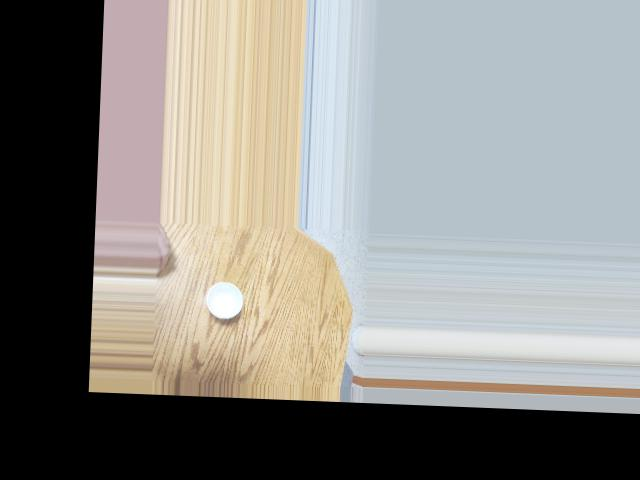cotage: (200, 279, 247, 318)
